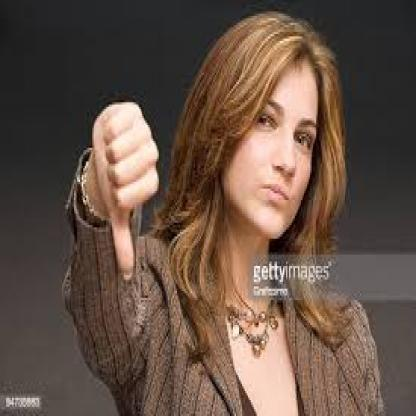thumb_down: (87, 95, 165, 286)
